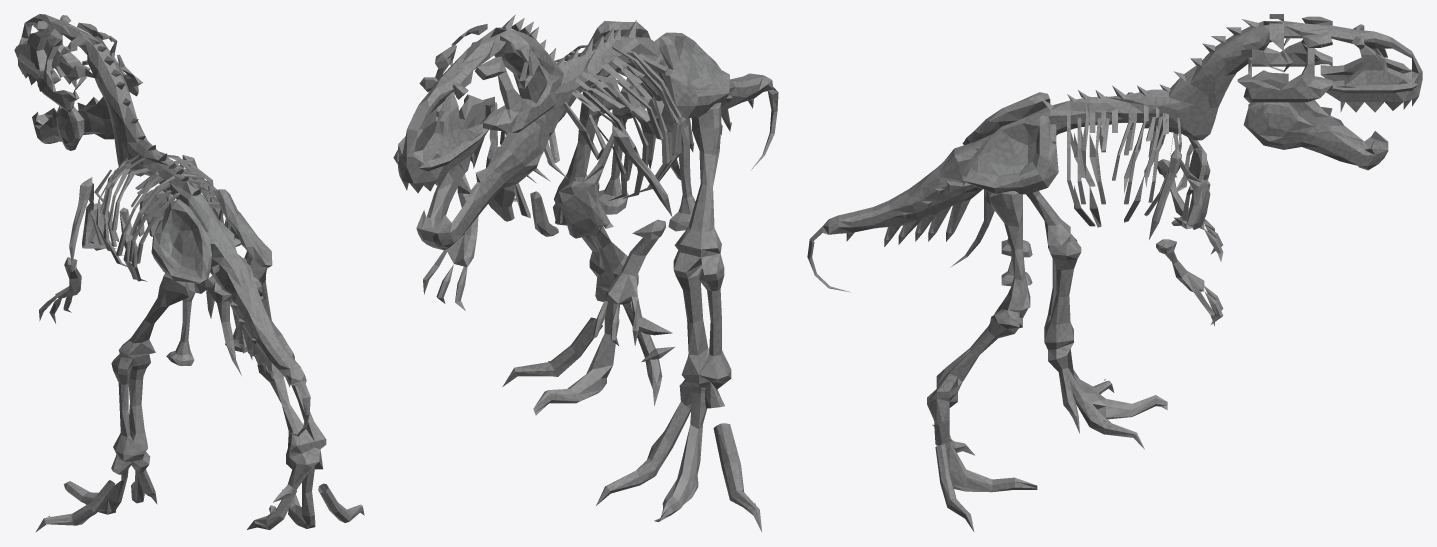
The model's file is tripo_convert_93079c05-85d1-4650-b682-1c8c313a666e.obj.
3 views of the same model, side by side, from view 1: azimuth 30°, elevation 25°; view 2: azimuth 150°, elevation 25°; view 3: azimuth 270°, elevation 25° (orthographic). The views are drawn at different scales.
Visible parts, largest first — view 1: tripo_part_11, tripo_part_9, tripo_part_12, tripo_part_4, tripo_part_29, tripo_part_28, tripo_part_10, tripo_part_17, tripo_part_8, tripo_part_26, tripo_part_14, tripo_part_3 (+10 smaller); view 2: tripo_part_11, tripo_part_29, tripo_part_28, tripo_part_12, tripo_part_9, tripo_part_8, tripo_part_26, tripo_part_23, tripo_part_22, tripo_part_4, tripo_part_3, tripo_part_17 (+16 smaller); view 3: tripo_part_11, tripo_part_10, tripo_part_28, tripo_part_29, tripo_part_12, tripo_part_4, tripo_part_27, tripo_part_5, tripo_part_9, tripo_part_18, tripo_part_3, tripo_part_24 (+10 smaller).
Part boxes in pixels (box(x1,y1,x2,y2)): tripo_part_11: box(59, 26, 306, 396); tripo_part_9: box(116, 188, 211, 283); tripo_part_12: box(111, 339, 155, 480); tripo_part_4: box(247, 321, 326, 502); tripo_part_29: box(17, 14, 117, 91); tripo_part_28: box(32, 96, 114, 150); tripo_part_10: box(197, 179, 272, 267); tripo_part_17: box(69, 177, 127, 266); tripo_part_8: box(118, 268, 189, 357); tripo_part_26: box(37, 33, 86, 112); tripo_part_14: box(35, 480, 115, 532); tripo_part_3: box(282, 466, 315, 528); tripo_part_11: box(452, 14, 777, 206); tripo_part_29: box(397, 39, 513, 193); tripo_part_28: box(416, 94, 549, 250); tripo_part_12: box(673, 228, 731, 427); tripo_part_9: box(634, 32, 729, 189); tripo_part_8: box(639, 102, 721, 269); tripo_part_26: box(483, 51, 560, 132); tripo_part_23: box(555, 133, 625, 238); tripo_part_22: box(586, 193, 665, 345); tripo_part_4: box(553, 174, 672, 335); tripo_part_3: box(533, 292, 620, 415); tripo_part_17: box(608, 89, 672, 216); tripo_part_11: box(810, 14, 1328, 275); tripo_part_10: box(962, 115, 1105, 227); tripo_part_28: box(1243, 70, 1388, 170); tripo_part_29: box(1258, 17, 1422, 112); tripo_part_12: box(1044, 221, 1081, 375); tripo_part_4: box(927, 276, 1027, 424); tripo_part_27: box(1237, 35, 1332, 102); tripo_part_5: box(989, 191, 1030, 312); tripo_part_9: box(962, 92, 1105, 186); tripo_part_18: box(1099, 147, 1187, 239); tripo_part_3: box(938, 421, 1037, 492); tripo_part_24: box(1156, 239, 1223, 326).
Bounding box in the file's own units: 0.4828 × 0.7146 × 0.898.
Materials: 32 (32 with a texture image).
